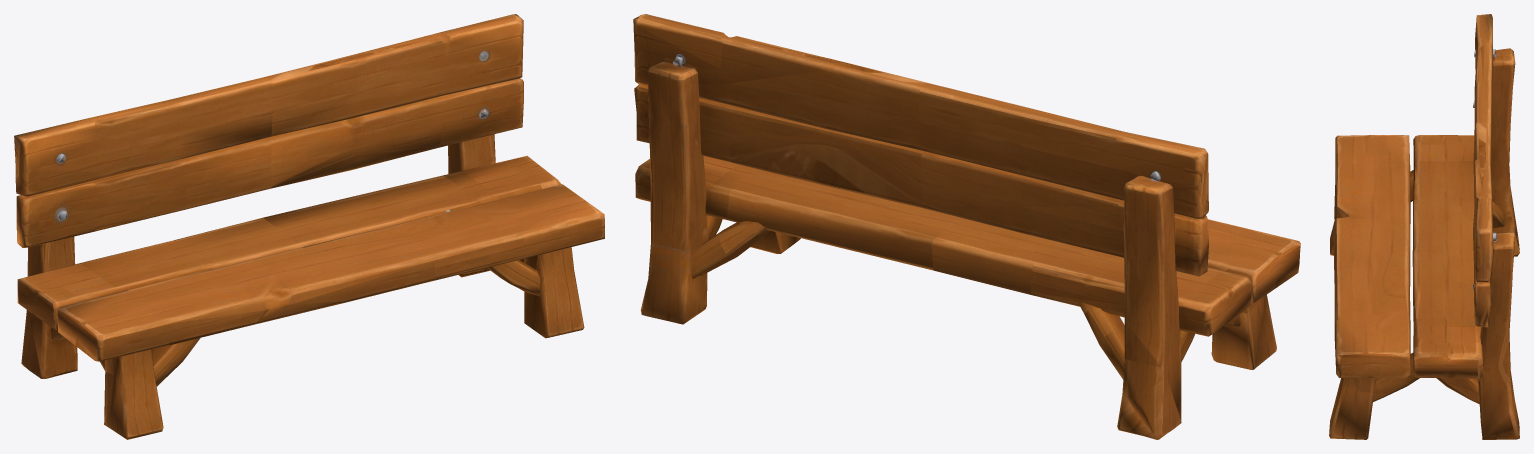
The model's file is bench.glb.
3 views of the same model, side by side, from view 1: azimuth 30°, elevation 25°; view 2: azimuth 150°, elevation 25°; view 3: azimuth 270°, elevation 25° (orthographic). The views are drawn at different scales.
Size of the model in its own units: 1 by 0.4658 by 0.3662.
1 material, 1 textured.
